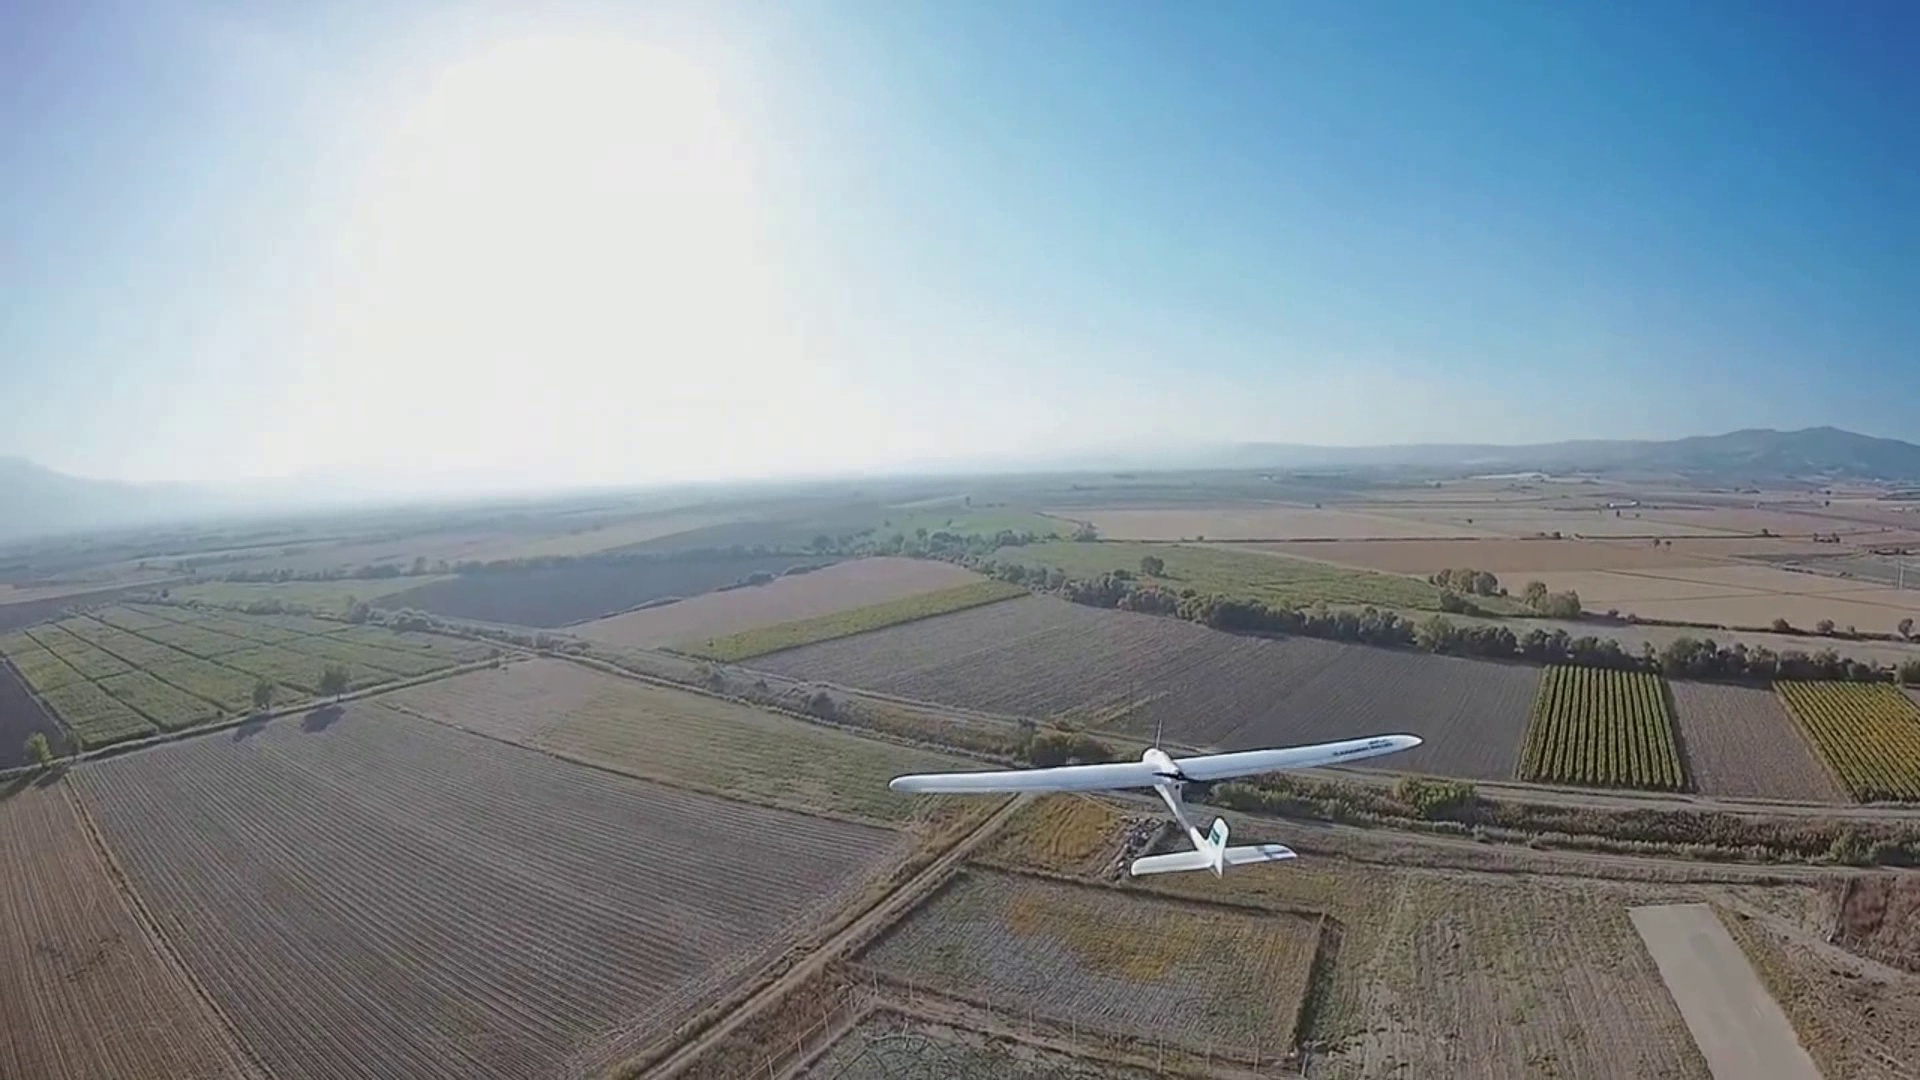airplane: (886, 728, 1423, 878)
